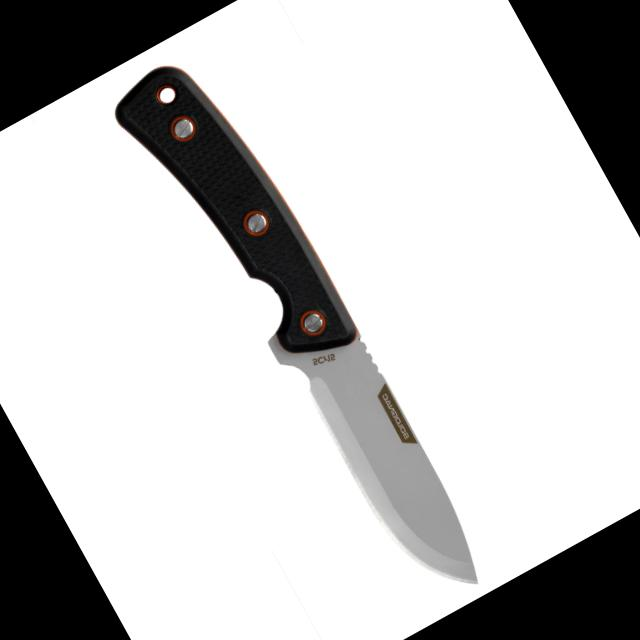Weapon: (96, 33, 506, 640)
